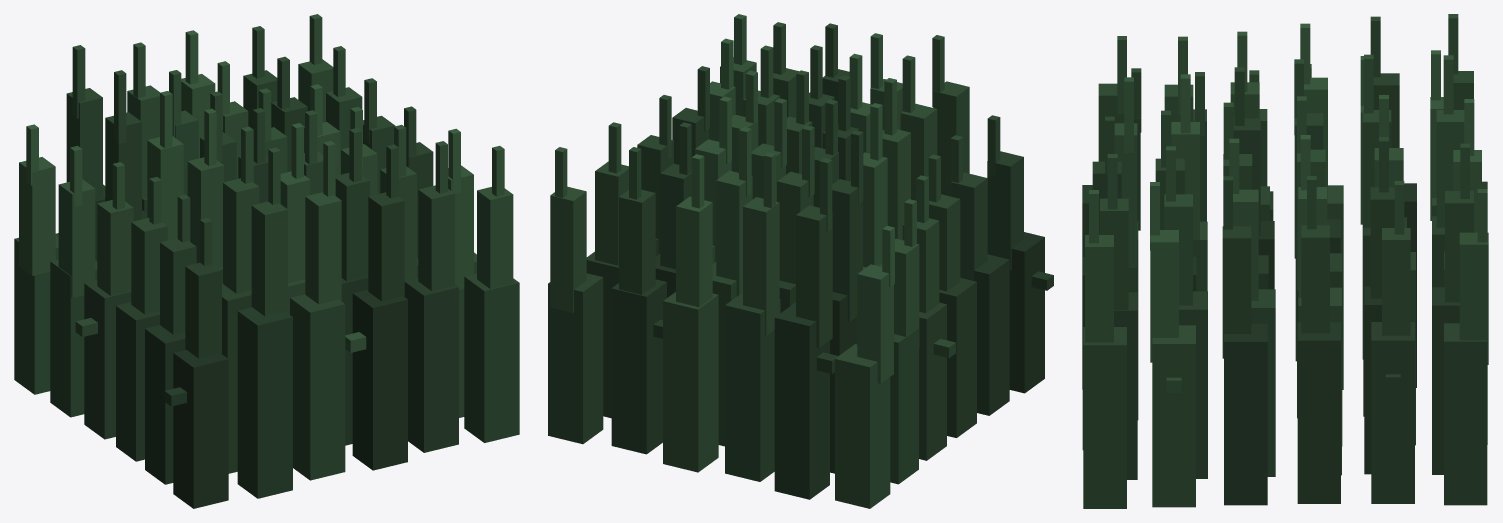
The model's file is CMU3DTallJungleGrass.glb.
3 views of the same model, side by side, from view 1: azimuth 30°, elevation 25°; view 2: azimuth 150°, elevation 25°; view 3: azimuth 270°, elevation 25° (orthographic). The views are drawn at different scales.
Parts seen in each view (by area): view 1: grass blade base (×14), leaning grass blade (×36), narrow blade tip (×32); view 2: grass blade base (×14), leaning grass blade (×35), narrow blade tip (×36); view 3: grass blade base (×24), leaning grass blade (×34), narrow blade tip (×31).
Part boxes in pixels (box(x1,y1,x2,y2)): grass blade base (×14): box(14, 235, 519, 508); leaning grass blade (×36): box(19, 59, 513, 358); narrow blade tip (×32): box(26, 14, 504, 265); grass blade base (×14): box(548, 232, 1044, 508); leaning grass blade (×35): box(550, 57, 1023, 383); narrow blade tip (×36): box(555, 14, 1000, 286); grass blade base (×24): box(1082, 183, 1487, 508); leaning grass blade (×34): box(1085, 71, 1488, 364); narrow blade tip (×31): box(1089, 14, 1487, 250).
Bounding box in the file's own units: 1.02 × 0.944 × 0.9877.
